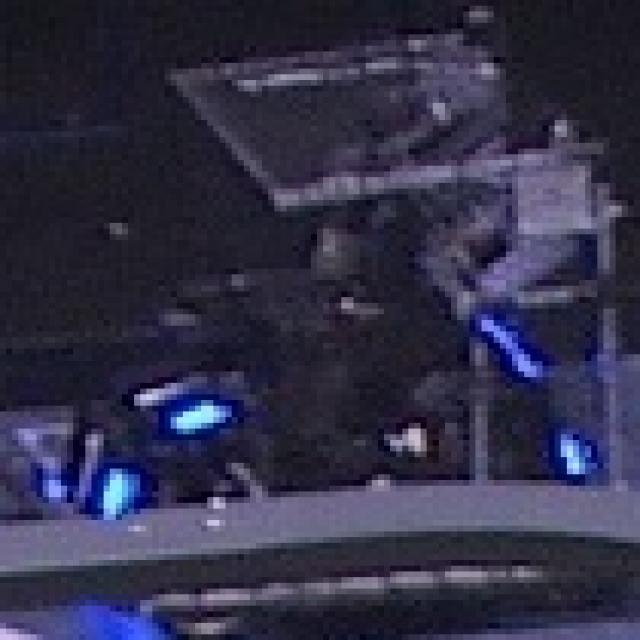B1: (49, 411, 140, 526)
